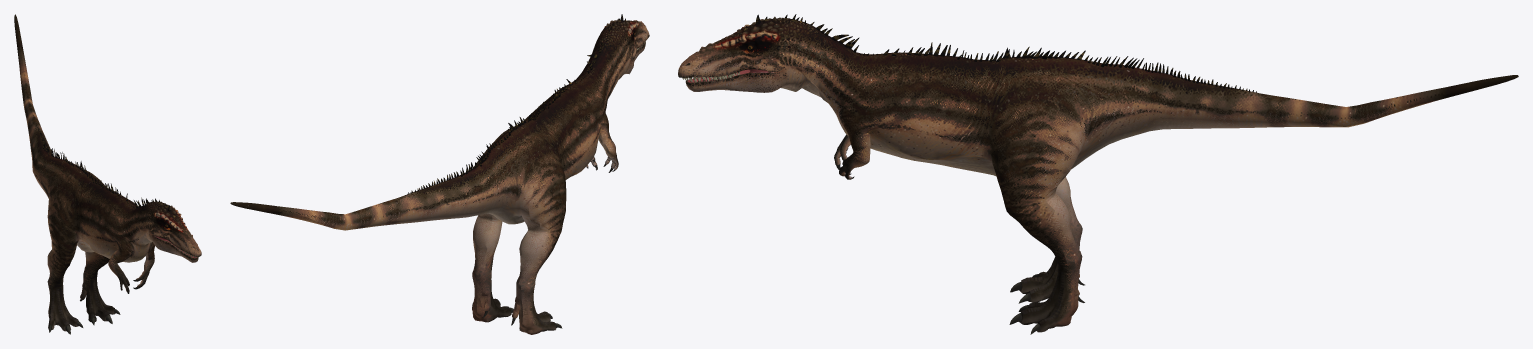
File: carcharodontosaurus.glb
3 renders of one model, left to right at view 1: azimuth 30°, elevation 25°; view 2: azimuth 150°, elevation 25°; view 3: azimuth 270°, elevation 25°, orthographic. The views are drawn at different scales.
Parts seen in each view (by area): view 1: Object_2; view 2: Object_2; view 3: Object_2.
Boxes of the visible parts, left/top/right/bottom form: Object_2: left=14, top=14, right=201, bottom=334; Object_2: left=230, top=14, right=649, bottom=334; Object_2: left=678, top=14, right=1518, bottom=334.
Bounding box in the file's own units: 5.24 × 7.94 × 20.35.
1 material, 1 textured.
